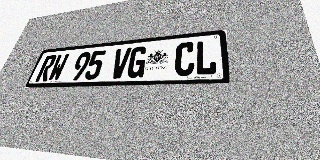5: (83, 50, 106, 80)
9: (69, 51, 92, 80)
C: (174, 41, 195, 76)
G: (126, 46, 148, 78)
L: (195, 39, 217, 76)
R: (35, 55, 58, 82)
V: (109, 47, 132, 79)
W: (47, 53, 70, 81)
